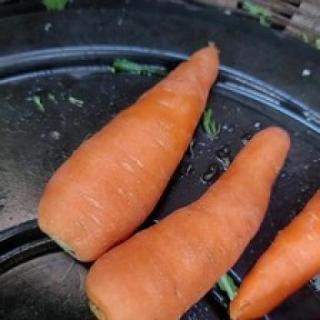Wortel: (37, 44, 223, 263), (83, 126, 291, 320)
